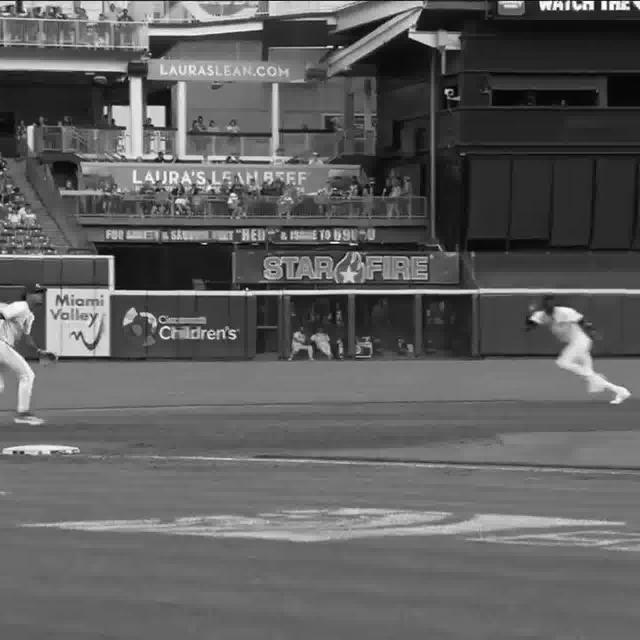base: (0, 444, 83, 454)
baseball_glove: (28, 350, 57, 367), (589, 324, 602, 345)
shoe: (611, 381, 636, 405), (17, 413, 45, 426)
